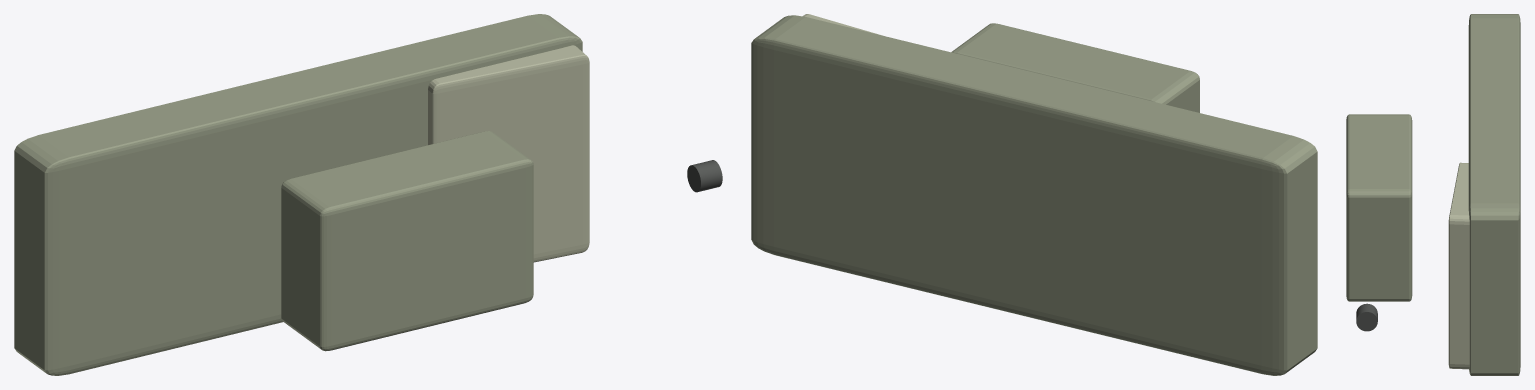
File: v-u12-vanguard-assault-vehicle-lod2.glb
The picture shows the model from 3 angles, left to right: view 1: azimuth 30°, elevation 25°; view 2: azimuth 150°, elevation 25°; view 3: azimuth 270°, elevation 25°; orthographic projection. The views are drawn at different scales.
Parts seen in each view (by area): view 1: chassis_lower, assault_turret, chassis_nose, autocannon_muzzle_0; view 2: chassis_lower, assault_turret; view 3: chassis_lower, assault_turret, chassis_nose, autocannon_muzzle_0.
Part boxes in pixels (bbox=[...]): chassis_lower: bbox=[14, 14, 582, 375]; assault_turret: bbox=[281, 131, 533, 351]; chassis_nose: bbox=[428, 45, 589, 262]; autocannon_muzzle_0: bbox=[687, 160, 722, 192]; chassis_lower: bbox=[751, 15, 1317, 375]; assault_turret: bbox=[951, 23, 1199, 112]; chassis_lower: bbox=[1468, 14, 1520, 375]; assault_turret: bbox=[1346, 114, 1412, 301]; chassis_nose: bbox=[1448, 162, 1469, 369]; autocannon_muzzle_0: bbox=[1356, 303, 1377, 331].
Size of what is drawn, in the model's own units: 6.3 by 2.17 by 2.03.
